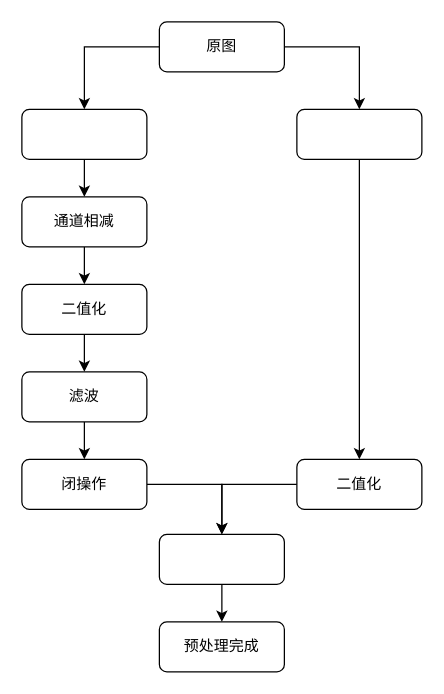
Image size: 444x694. Some labels were removed from this diagram. Each missing label, with the centre of its shape:
分离颜色空间: (84,133)
取交集: (221,558)
转换灰度图: (359,133)
